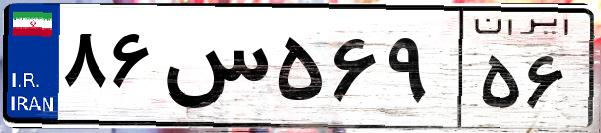5: (270, 28, 330, 110), (475, 38, 525, 113)
6: (330, 28, 385, 110), (525, 38, 570, 115), (110, 28, 158, 98)
8: (57, 26, 110, 100)
9: (385, 28, 445, 110)
س: (158, 20, 270, 120)
